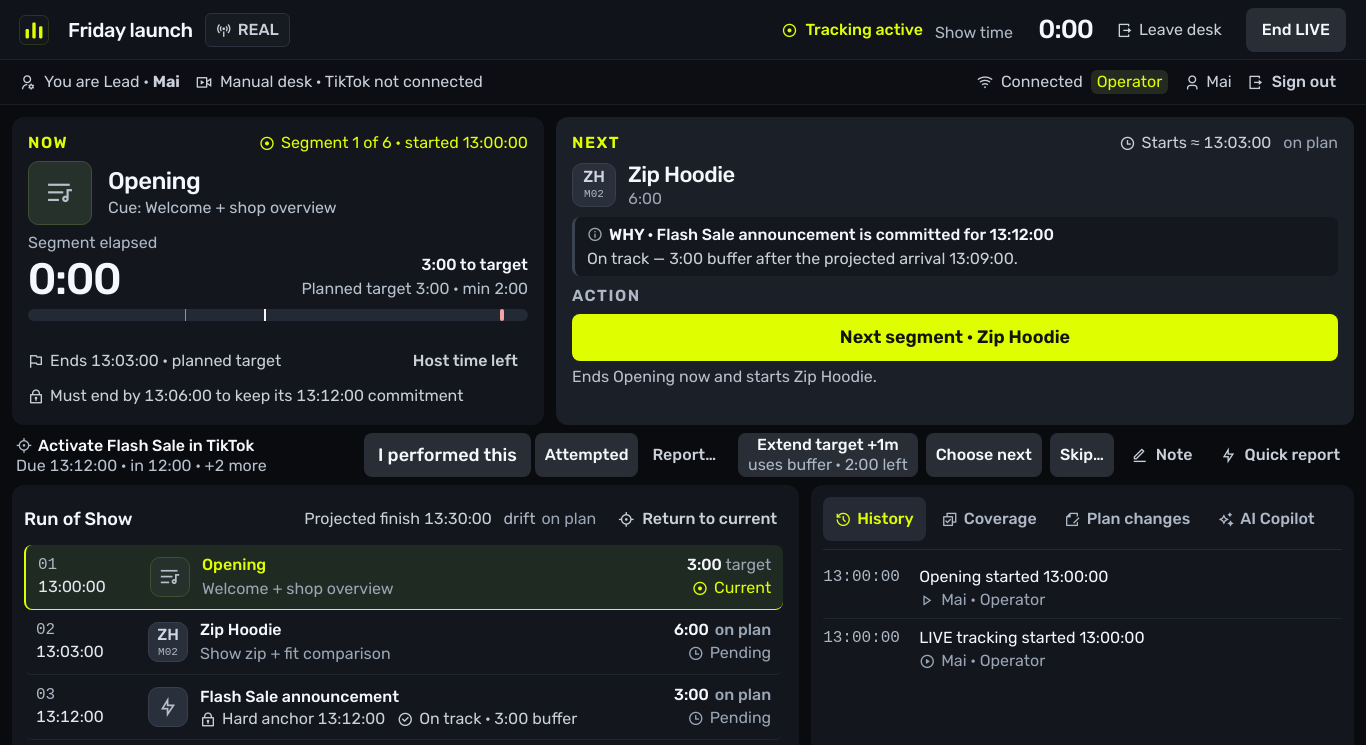
Scenario: signing out from the desk › with an action still unanswered it asks first, says nothing was cancelled or failed, and then signs out
expect the button with test id "extend-plus-one-btn" is enabled: met, box [738,433,918,477]
What coordinates should you click on to do the following:
click the button with test id "end-live-header-btn"
I would click on:
 (1296, 30)
Its box is [1246,8,1346,52].
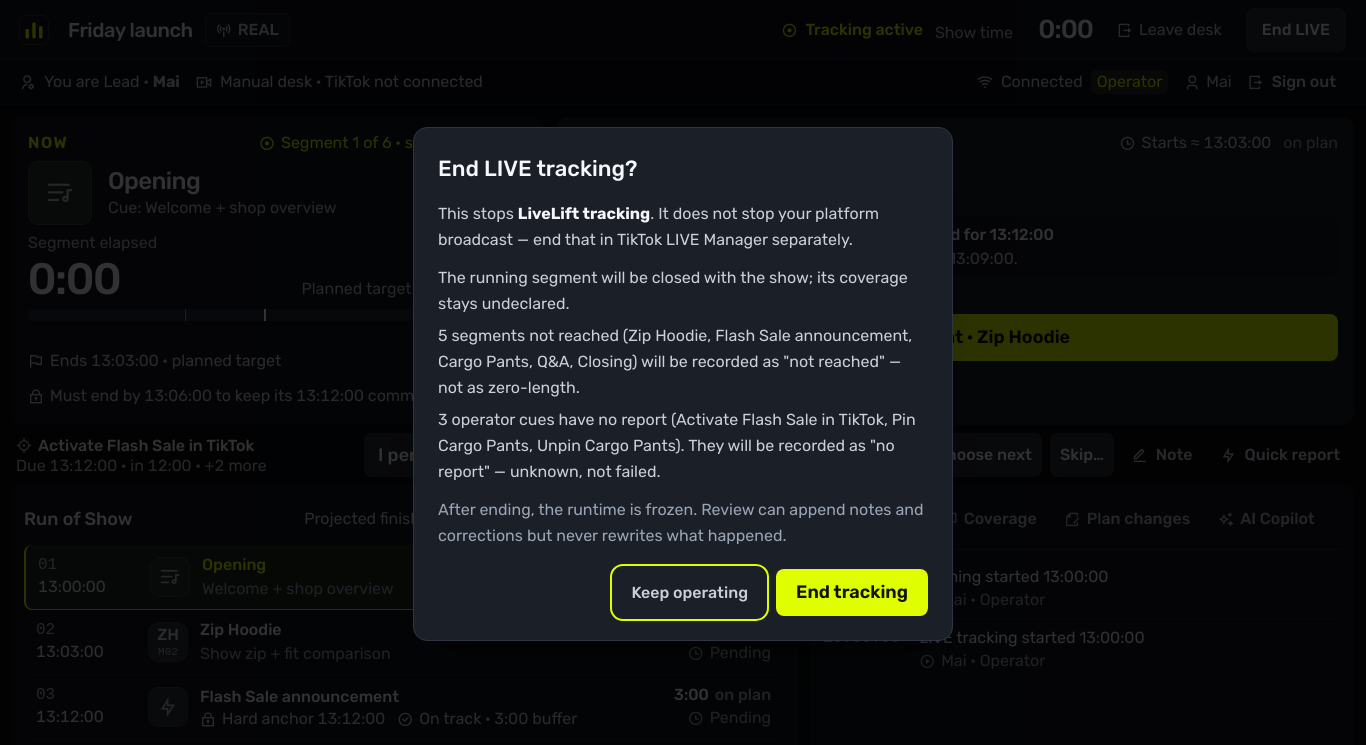
What coordinates should you click on to do the following:
click the button "End tracking"
I would click on:
 (852, 592)
Its box is [776,569,928,616].
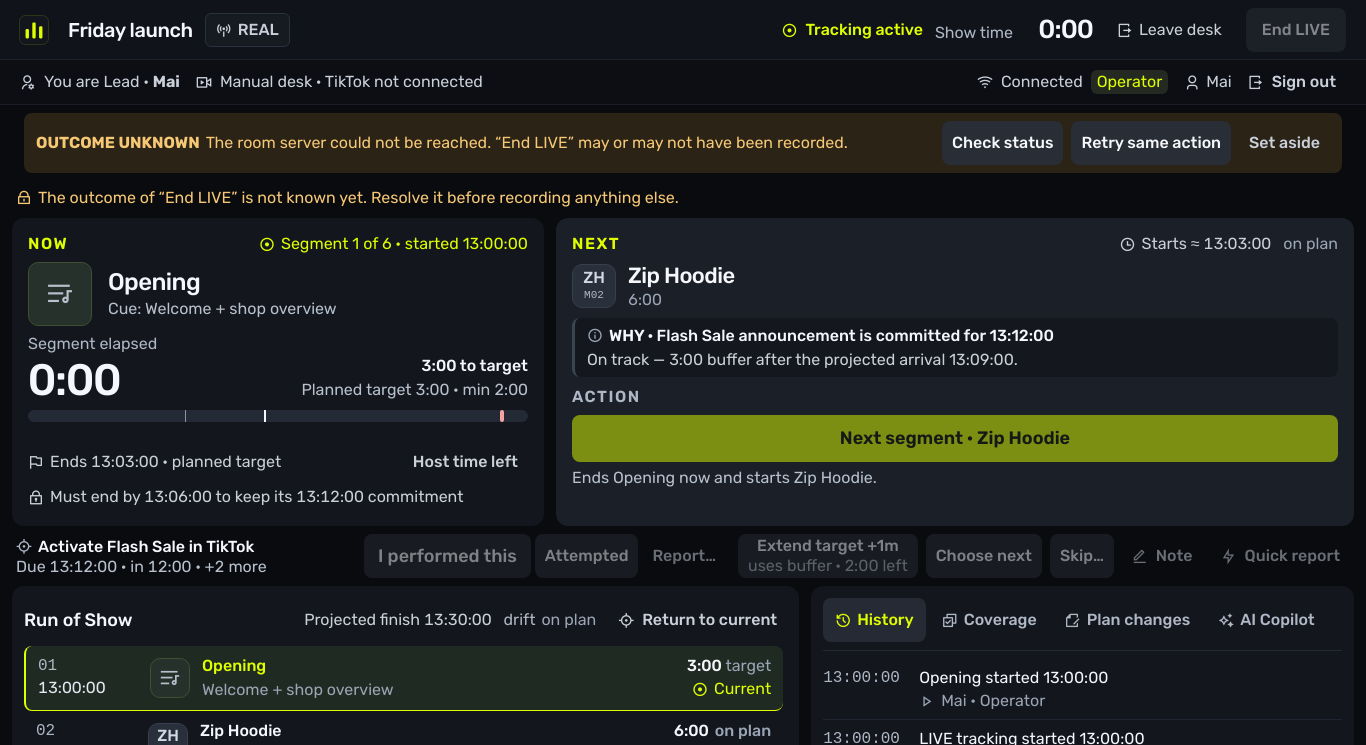
expect the element with test id "outcome-unknown-banner" is shown: met, box [24,113,1342,173]
What coordinates should you click on to do the following:
click the button with test id "sign-out-btn"
I would click on:
 (1292, 82)
Its box is [1238,60,1346,104].
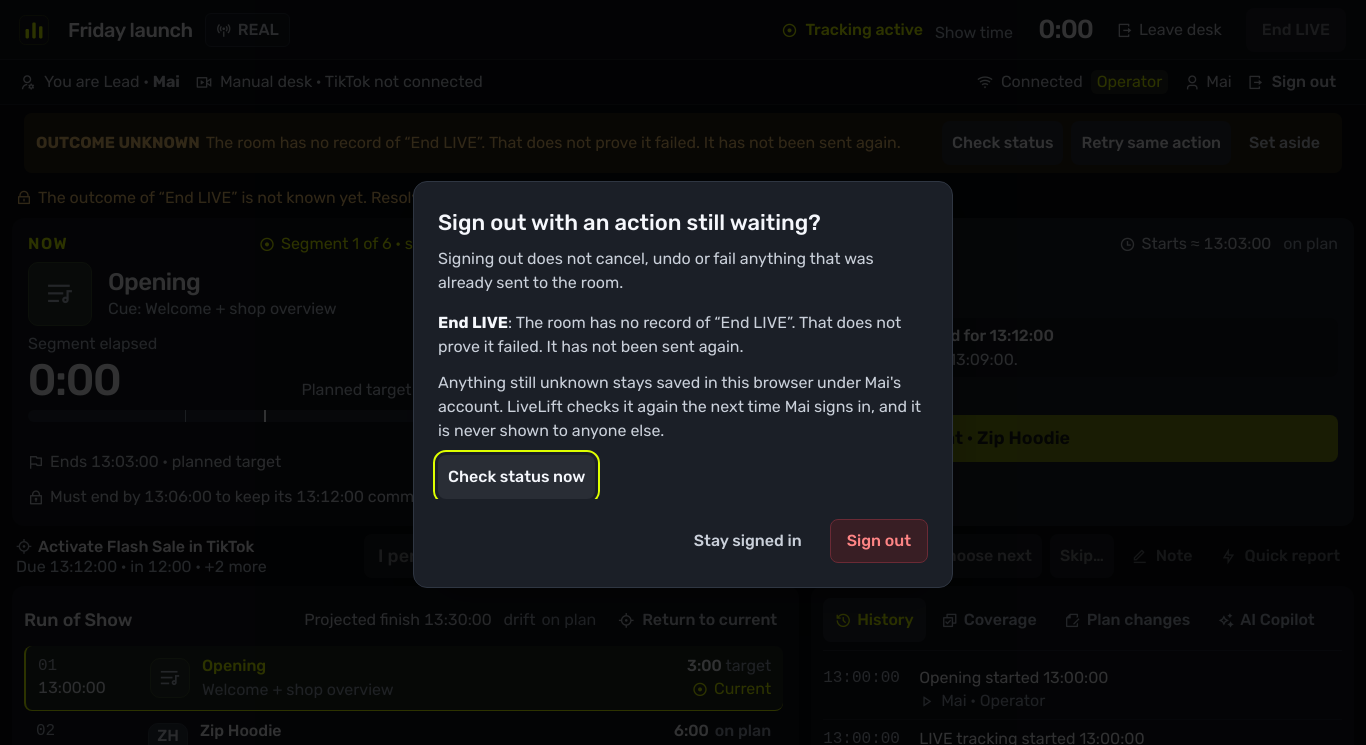
What coordinates should you click on to do the following:
click the button "Stay signed in"
I would click on:
 (748, 540)
Its box is [678,518,818,562].
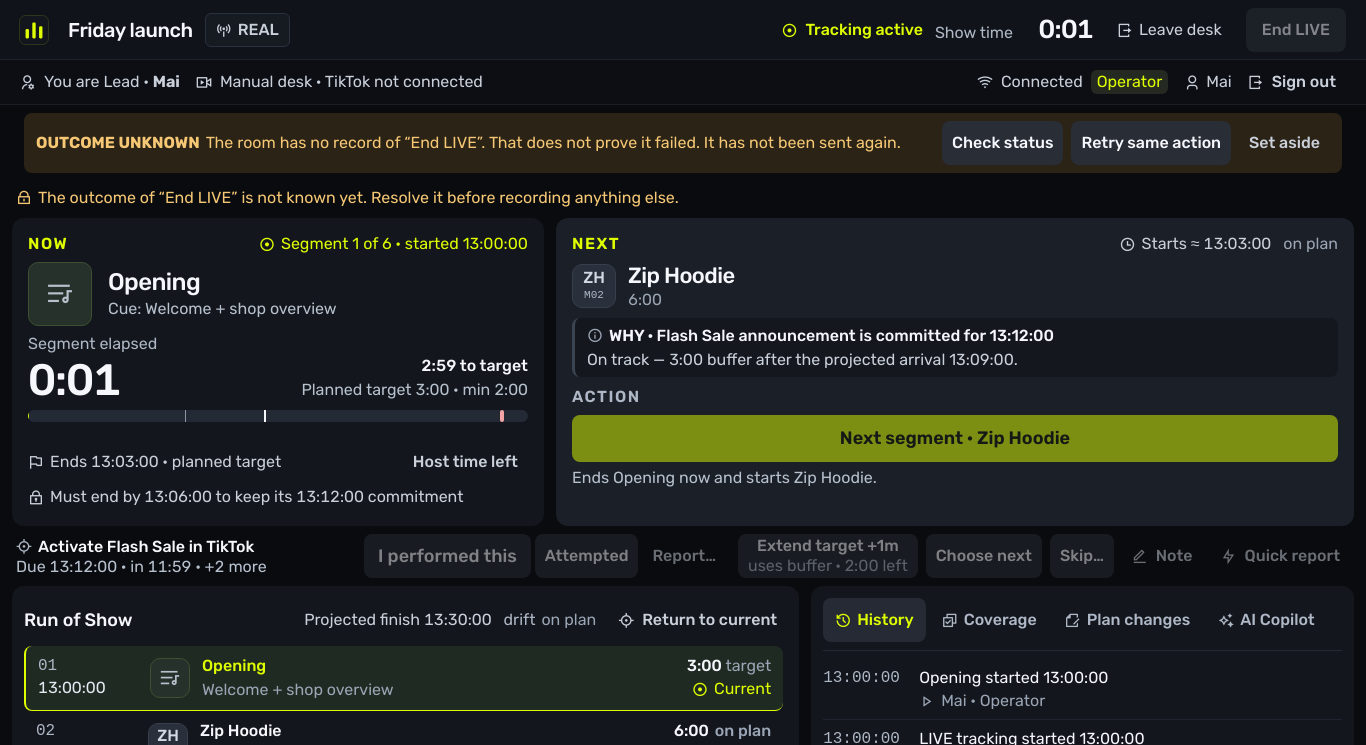
expect the dialog is gone: met
